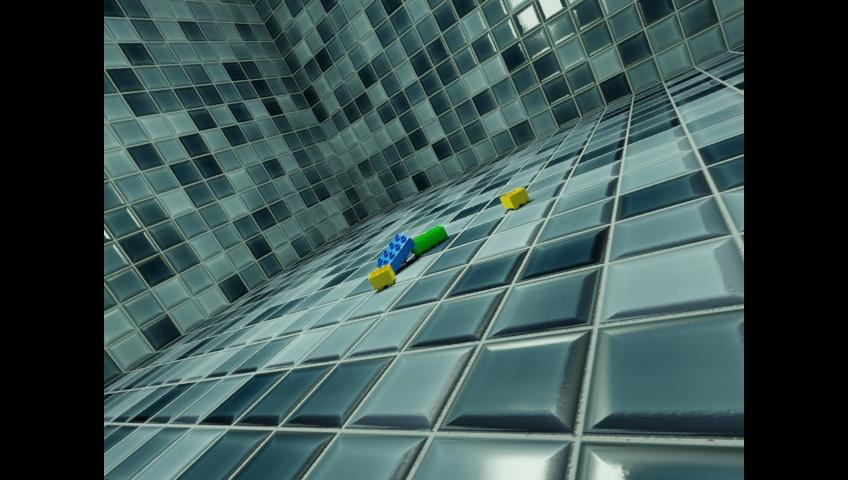2x2_yellow: (369, 264, 395, 291), (500, 187, 528, 209)
4x2_blue: (375, 233, 415, 273)
4x2_green: (411, 225, 447, 255)
